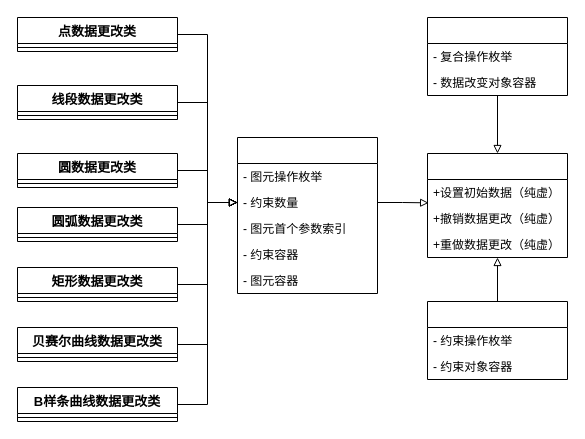
Some shapes in this 585 by 439 pixel diagram are drawn without their labels. The box of each missing label's shape, as (x1, y1, x2, y2) in pixels:
图元数据更改基类: (236, 136, 378, 294)
复合数据更改类: (426, 16, 568, 96)
数据更改基类: (426, 152, 568, 258)
约束数据更改类: (426, 300, 568, 380)
